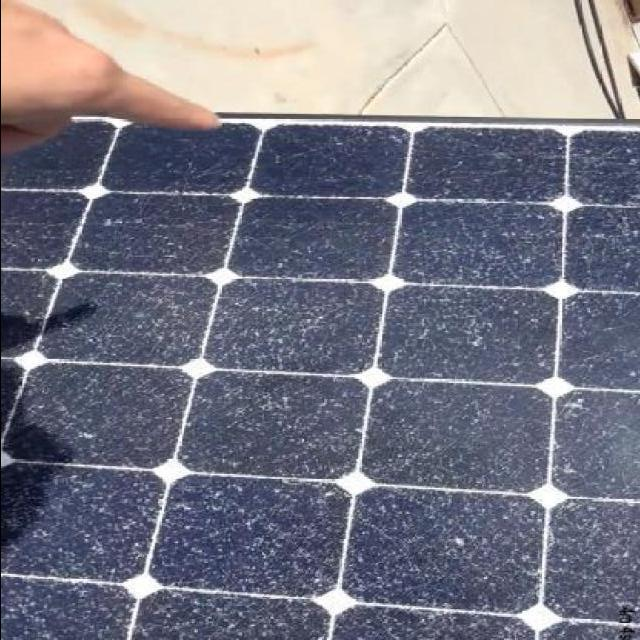cracked: (1, 116, 640, 637)
